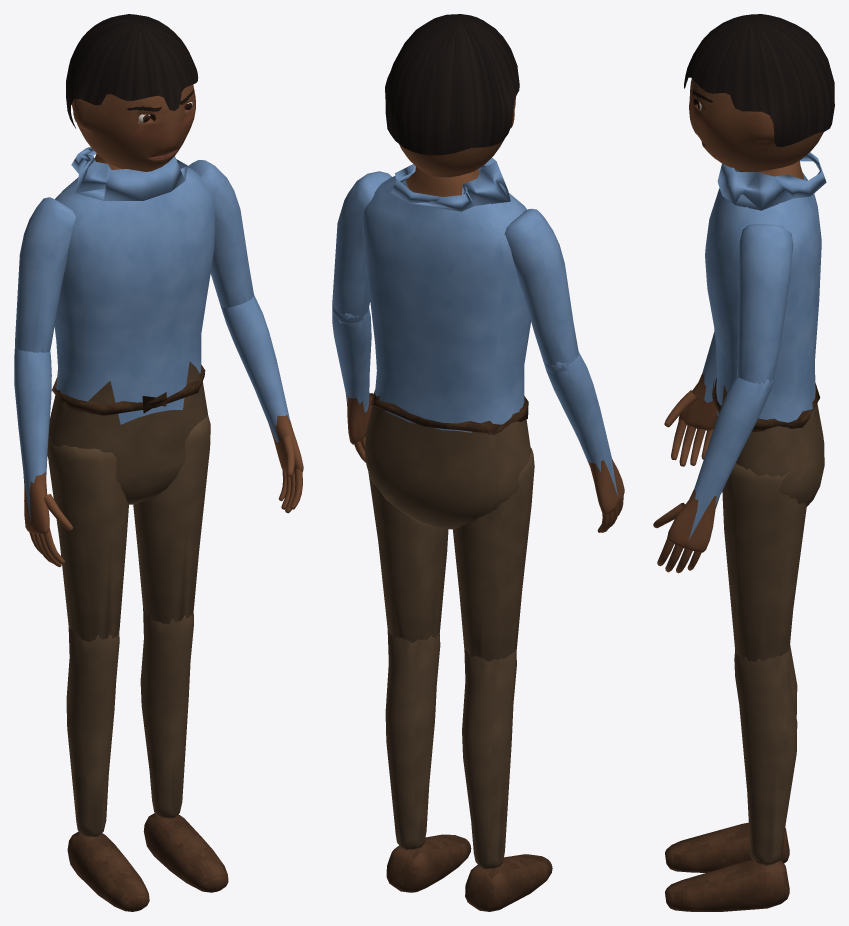
Rendered from persona_nino_b_medio.obj.
3 views of the same model, side by side, from view 1: azimuth 30°, elevation 25°; view 2: azimuth 150°, elevation 25°; view 3: azimuth 270°, elevation 25° (orthographic). The views are drawn at different scales.
Parts seen in each view (by area): view 1: Torso, PiernaIzq, PiernaDer, MusloDer, MusloIzq, Pelo, Cabeza, BrazoDer, AntebrazoDer, AntebrazoIzq, BrazoIzq, Cuello (+1 smaller); view 2: Torso, Pelo, PiernaDer, PiernaIzq, MusloDer, MusloIzq, BrazoDer, AntebrazoDer, BrazoIzq, AntebrazoIzq, Cuello, Cabeza (+1 smaller); view 3: Torso, PiernaIzq, Pelo, MusloIzq, AntebrazoIzq, BrazoIzq, Cabeza, PiernaDer, AntebrazoDer, Cuello, Cinturon.
Boxes of the visible parts, box(x1,y1,x2,y2) form: Torso: box(47, 153, 215, 504); PiernaIzq: box(140, 608, 228, 892); PiernaDer: box(66, 627, 149, 911); MusloDer: box(48, 444, 128, 641); MusloIzq: box(133, 415, 210, 623); Pelo: box(66, 14, 198, 128); Cabeza: box(71, 84, 195, 171); BrazoDer: box(15, 197, 76, 352); AntebrazoDer: box(14, 348, 73, 567); AntebrazoIzq: box(221, 295, 303, 513); BrazoIzq: box(188, 160, 253, 308); Cuello: box(71, 147, 187, 200); Torso: box(362, 167, 531, 529); Pelo: box(385, 14, 519, 155); PiernaDer: box(462, 649, 552, 911); PiernaIzq: box(385, 630, 471, 892); MusloDer: box(452, 448, 534, 661); MusloIzq: box(368, 472, 448, 642); BrazoDer: box(504, 208, 578, 373); AntebrazoDer: box(545, 352, 624, 532); BrazoIzq: box(332, 171, 391, 323); AntebrazoIzq: box(332, 303, 373, 462); Cuello: box(391, 158, 510, 211); Cabeza: box(399, 97, 515, 177); Torso: box(705, 160, 824, 506); PiernaIzq: box(665, 646, 797, 911); Pelo: box(684, 14, 834, 146); MusloIzq: box(722, 463, 806, 661); AntebrazoIzq: box(653, 375, 773, 573); BrazoIzq: box(736, 224, 793, 391); Cabeza: box(689, 78, 823, 171); PiernaDer: box(665, 644, 797, 872); AntebrazoDer: box(664, 331, 716, 466); Cuello: box(717, 152, 826, 210); Cinturon: box(712, 377, 820, 431).
Size of the model in its own units: 0.3841 by 1.2 by 0.2268.
Materials: 12 (12 with a texture image).
